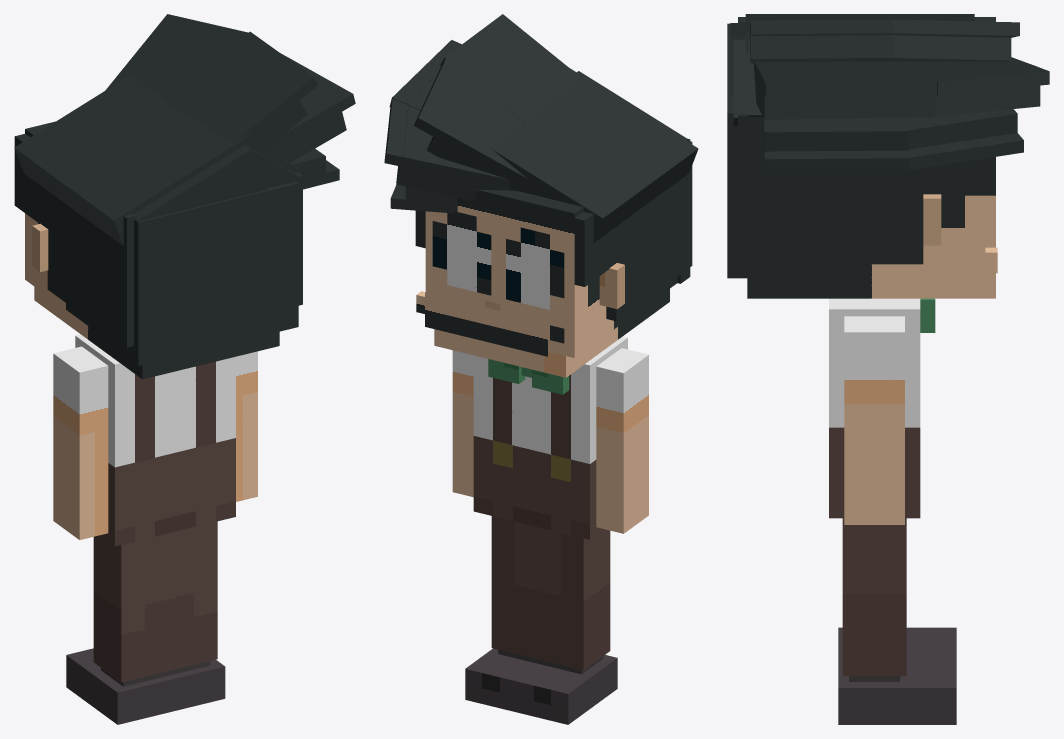
The picture shows the model from 3 angles, left to right: view 1: azimuth 30°, elevation 25°; view 2: azimuth 150°, elevation 25°; view 3: azimuth 270°, elevation 25°; orthographic projection. The views are drawn at different scales.
Parts seen in each view (by area): view 1: head (×5), bone22, body (×3), leftLeg (×2), leftArm, bone19 (×2), rightLeg (×2), bone20 (×2), xiezi, bone8, bone23 (×2), rightArm (+4 smaller); view 2: head (×6), bone22, body (×5), leftLeg (×2), leftArm, rightLeg (×2), bone20 (×2), bone19 (×2), bone24 (×2), xiezi, rightArm, xiezi2 (+3 smaller); view 3: head (×5), rightArm, rightLeg (×2), bone23 (×2), bone25 (×2), body (×3), xiezi2, bone19 (×2), bone24 (×2), bone21 (×2), bone20 (×2), xiezi (+3 smaller).
Part boxes in pixels (x1,y1,x2,y2): head (×5): (14, 121, 298, 379); bone22: (14, 75, 254, 245); body (×3): (75, 334, 235, 515); leftLeg (×2): (93, 500, 175, 682); leftArm: (53, 346, 108, 539); bone19 (×2): (165, 31, 317, 149); rightLeg (×2): (169, 486, 235, 670); bone20 (×2): (105, 14, 248, 113); xiezi: (66, 648, 171, 724); bone8: (134, 144, 266, 220); bone23 (×2): (265, 53, 355, 163); rightArm: (236, 351, 257, 501); head (×6): (425, 140, 692, 377); bone22: (491, 68, 698, 242); body (×5): (473, 336, 627, 509); leftLeg (×2): (532, 496, 610, 670); leftArm: (596, 348, 648, 533); rightLeg (×2): (473, 482, 537, 658); bone20 (×2): (413, 58, 541, 191); bone19 (×2): (440, 14, 580, 123); bone24 (×2): (384, 99, 510, 200); xiezi: (516, 655, 617, 724); rightArm: (452, 350, 473, 497); xiezi2: (465, 648, 539, 712); head (×5): (727, 17, 995, 298); rightArm: (844, 316, 904, 524); rightLeg (×2): (829, 482, 920, 676); bone23 (×2): (753, 61, 936, 119); bone25 (×2): (763, 117, 908, 171); body (×3): (829, 298, 935, 482); xiezi2: (838, 657, 956, 724); bone19 (×2): (749, 19, 893, 63); bone24 (×2): (927, 57, 1049, 117); bone21 (×2): (893, 109, 1023, 169); bone20 (×2): (875, 19, 1019, 61); xiezi: (838, 627, 956, 657).
Size of the model in its own units: 0.6859 by 1.67 by 0.6633.
Materials: 1 (1 with a texture image).
